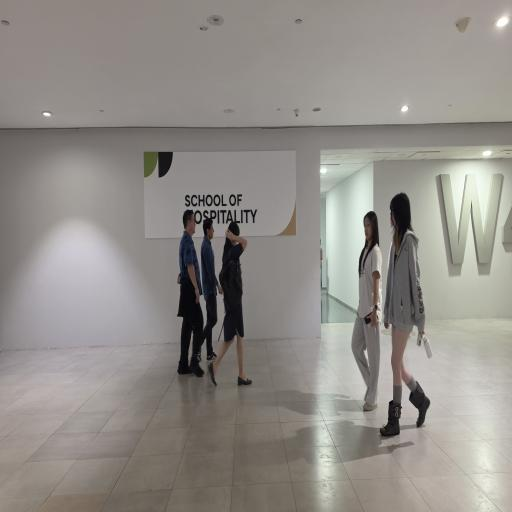person_left: (384, 194, 436, 440), (346, 190, 384, 414)
person_right: (212, 220, 250, 393), (177, 206, 203, 382), (199, 204, 217, 362)
